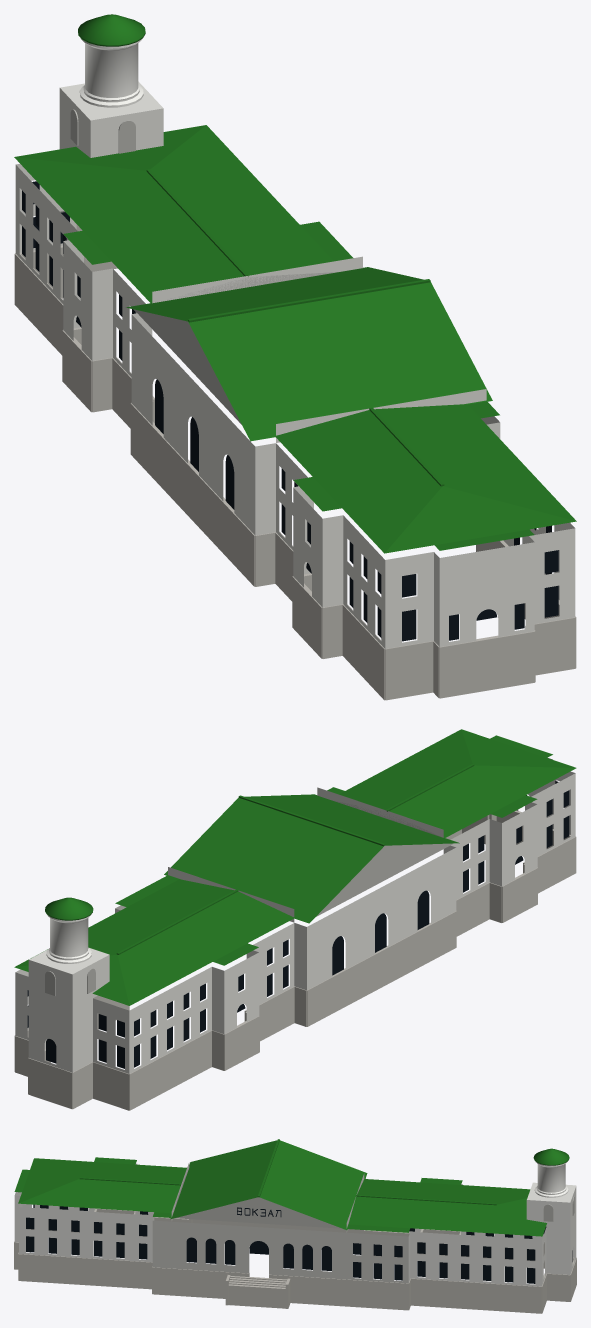
Rendered from zd_vokzal.lod.glb.
The picture shows the model from 3 angles, top to bottom: view 1: azimuth 30°, elevation 25°; view 2: azimuth 150°, elevation 25°; view 3: azimuth 270°, elevation 25°; orthographic projection. The views are drawn at different scales.
Parts seen in each view (by area): view 1: zd_vokzal_roof, zd_vokzal_wall2, zd_vokzal_stone, zd_vokzal_glass, zd_vokzal_trim_s, zd_vokzal_wall3, zd_vokzal_wall; view 2: zd_vokzal_roof, zd_vokzal_wall2, zd_vokzal_stone, zd_vokzal_glass, zd_vokzal_wall3, zd_vokzal_trim_s; view 3: zd_vokzal_roof, zd_vokzal_stone, zd_vokzal_wall2, zd_vokzal_wall, zd_vokzal_glass, zd_vokzal_wall3, zd_vokzal_trim_s.
Boxes of the visible parts, box(x1,y1,x2,y2) form: zd_vokzal_roof: box(14, 14, 576, 553); zd_vokzal_wall2: box(15, 81, 575, 648); zd_vokzal_stone: box(14, 224, 576, 700); zd_vokzal_glass: box(22, 181, 558, 641); zd_vokzal_trim_s: box(79, 38, 143, 107); zd_vokzal_wall3: box(70, 109, 241, 424); zd_vokzal_wall: box(163, 272, 499, 424); zd_vokzal_roof: box(14, 729, 576, 1005); zd_vokzal_wall2: box(15, 757, 575, 1073); zd_vokzal_stone: box(14, 810, 576, 1110); zd_vokzal_glass: box(27, 781, 569, 1068); zd_vokzal_wall3: box(45, 843, 453, 995); zd_vokzal_trim_s: box(46, 914, 91, 963); zd_vokzal_roof: box(14, 1139, 569, 1236); zd_vokzal_stone: box(14, 1208, 576, 1313); zd_vokzal_wall2: box(14, 1162, 576, 1286); zd_vokzal_wall: box(152, 1169, 408, 1283); zd_vokzal_glass: box(26, 1204, 572, 1283); zd_vokzal_wall3: box(175, 1197, 574, 1228); zd_vokzal_trim_s: box(534, 1161, 568, 1197).
Size of the model in its own units: 27.32 by 22.82 by 81.77.
